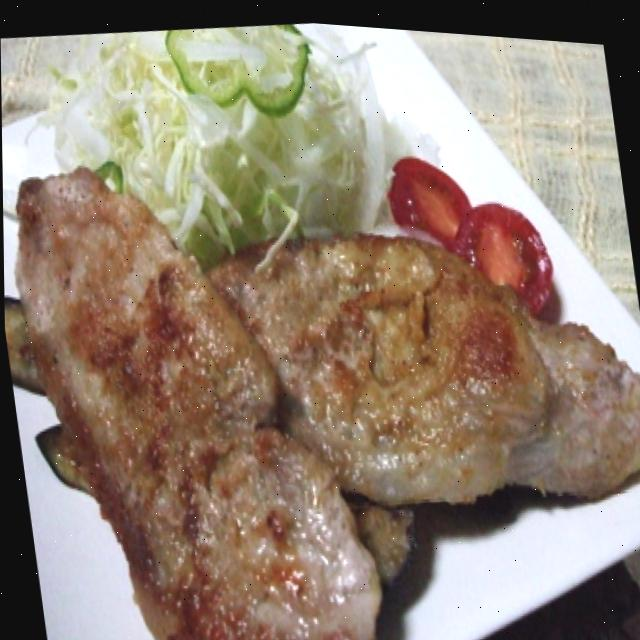猪肉菜式: (1, 87, 640, 640)
